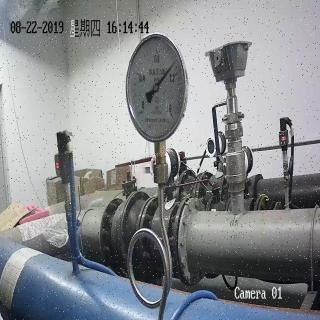gauge: (125, 33, 187, 143), (1, 221, 30, 319), (163, 107, 180, 124), (132, 107, 148, 123), (152, 84, 160, 92), (170, 60, 177, 67)
